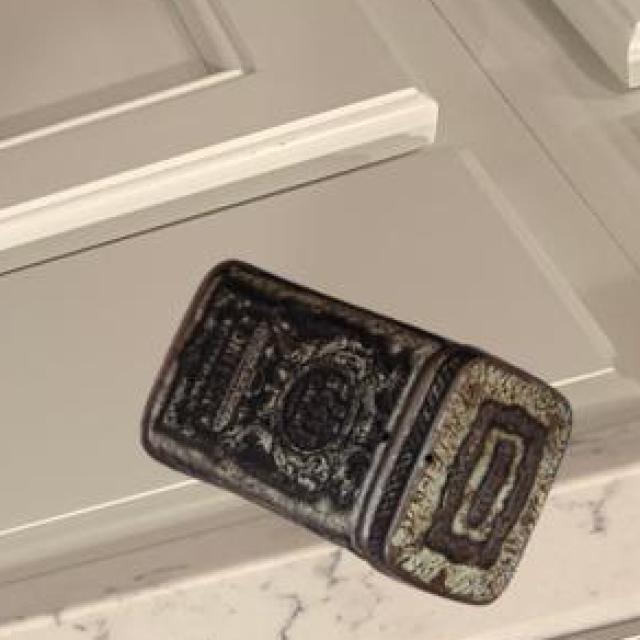logam: (144, 264, 575, 608)
